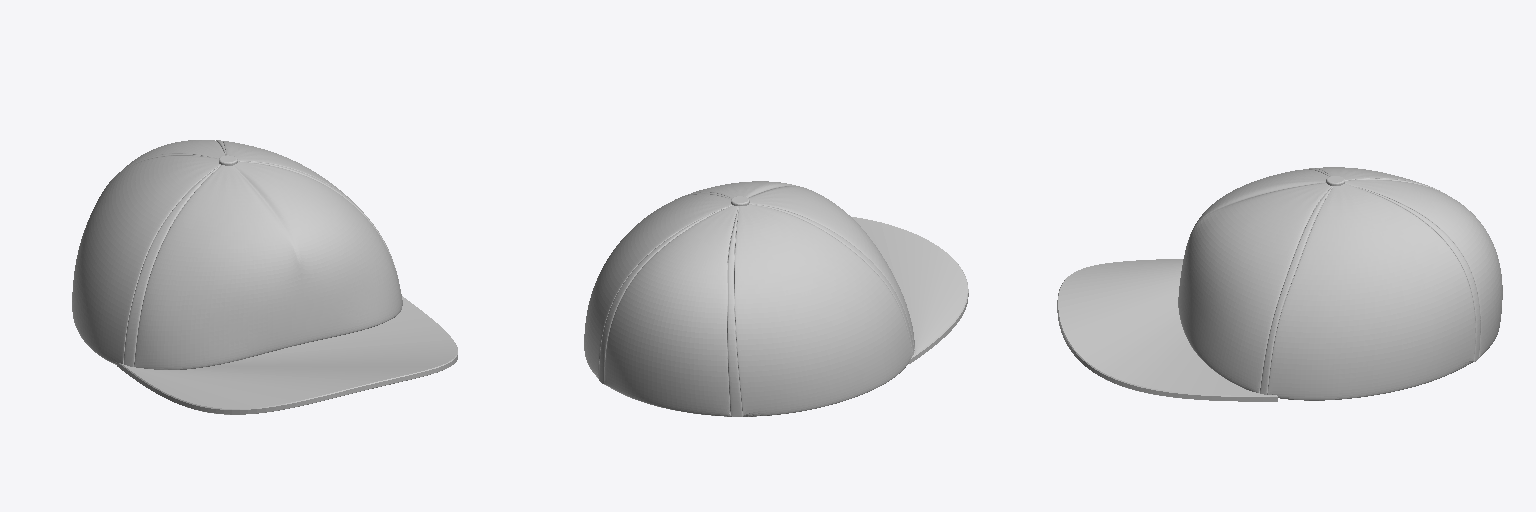
The model's file is Cap.obj.
3 renders of one model, left to right at view 1: azimuth 30°, elevation 25°; view 2: azimuth 150°, elevation 25°; view 3: azimuth 270°, elevation 25°, orthographic.
Visible parts, largest first — view 1: Cap_Mesh.007; view 2: Cap_Mesh.007; view 3: Cap_Mesh.007.
Part boxes in pixels (bbox=[...]): Cap_Mesh.007: bbox=[72, 140, 457, 414]; Cap_Mesh.007: bbox=[584, 181, 968, 416]; Cap_Mesh.007: bbox=[1057, 167, 1502, 401].
Size of the model in its own units: 4.1 by 2.11 by 5.55.